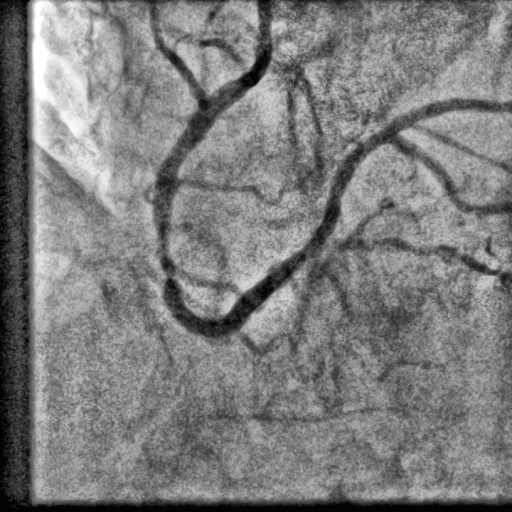pborca: (314, 99, 512, 239)
pda: (321, 238, 508, 277)
rca: (153, 38, 326, 339)
